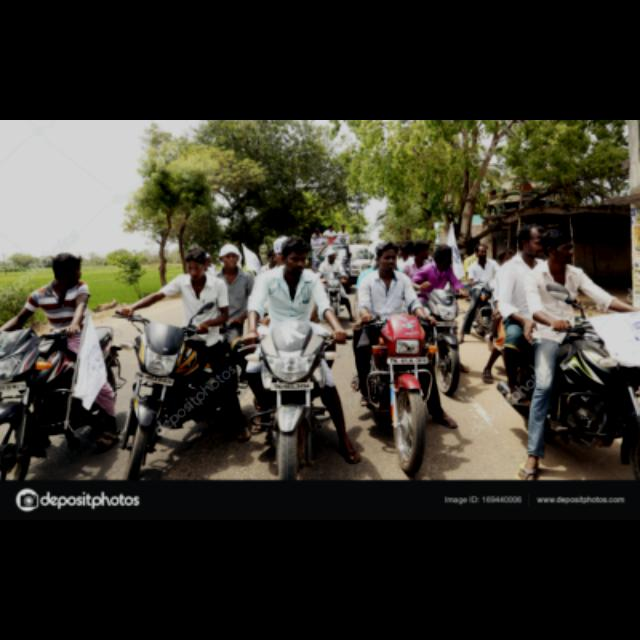Without Helmet: (539, 222, 579, 268), (370, 237, 408, 277), (179, 243, 213, 285), (48, 248, 84, 284), (282, 234, 310, 276), (216, 236, 244, 272), (430, 240, 458, 268), (474, 237, 496, 267), (322, 244, 344, 272)
